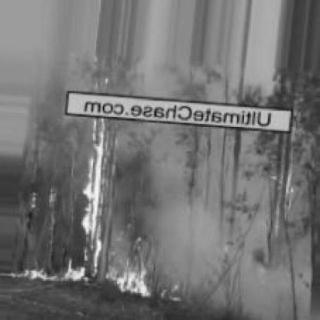Fire: (81, 114, 110, 284)
Smoke: (160, 204, 302, 310)
